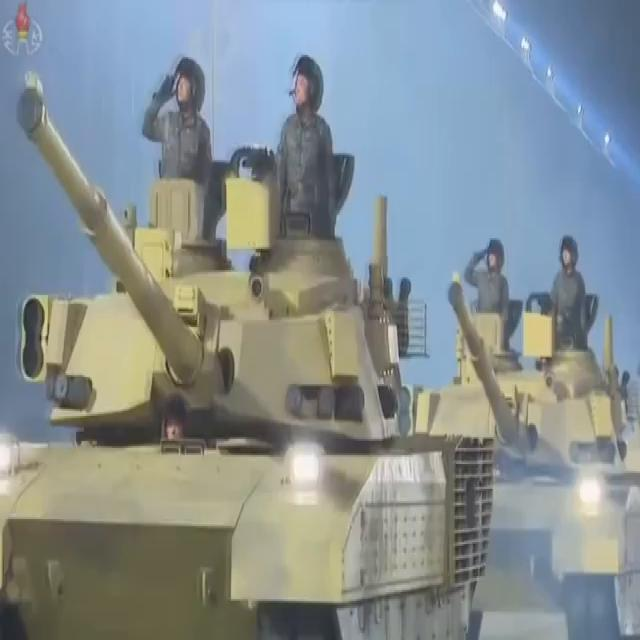north tank: (2, 55, 488, 640), (429, 239, 640, 640)
